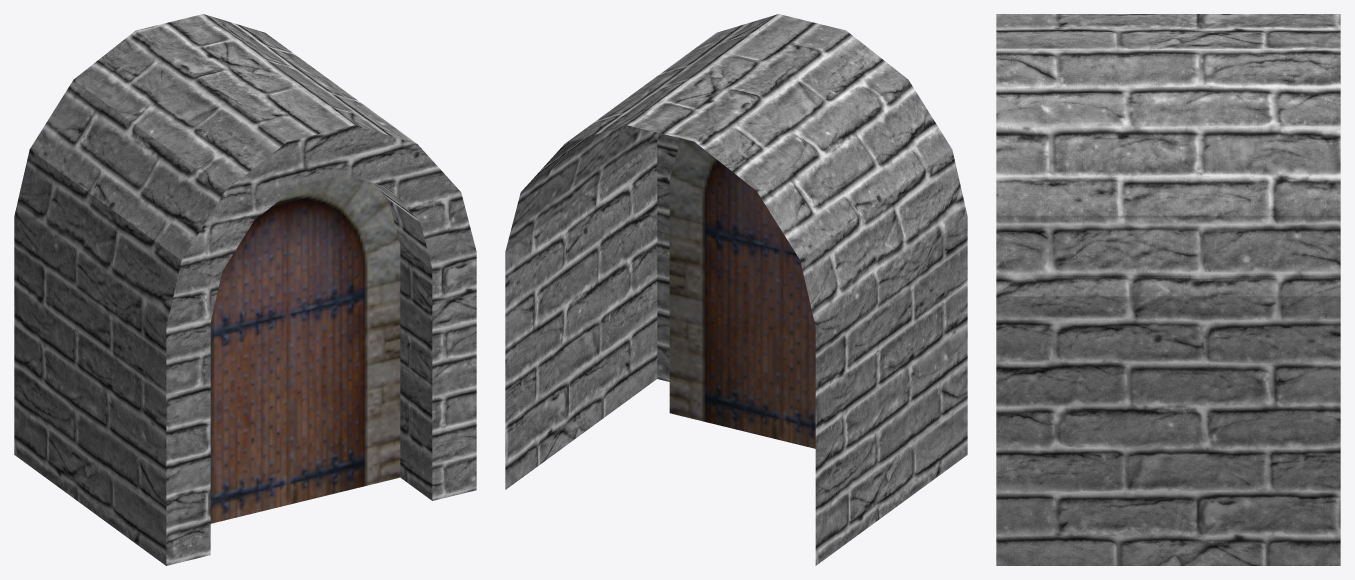
File: Door.fbx
The picture shows the model from 3 angles, left to right: view 1: azimuth 30°, elevation 25°; view 2: azimuth 150°, elevation 25°; view 3: azimuth 270°, elevation 25°; orthographic projection. The views are drawn at different scales.
Visible parts, largest first — view 1: Door; view 2: Door; view 3: Door.
Boxes of the visible parts, x1=… form: Door: x1=14, y1=14, x2=476, y2=565; Door: x1=505, y1=14, x2=967, y2=565; Door: x1=996, y1=14, x2=1340, y2=565.
Size of the model in its own units: 140 by 170 by 119.
